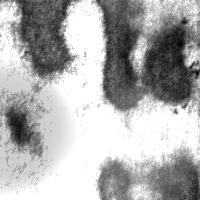patches: (77, 82, 200, 200), (0, 61, 73, 193), (96, 1, 142, 110), (144, 21, 195, 104), (19, 1, 73, 79), (103, 0, 191, 44), (152, 149, 200, 200), (95, 157, 132, 200), (7, 103, 32, 149)
